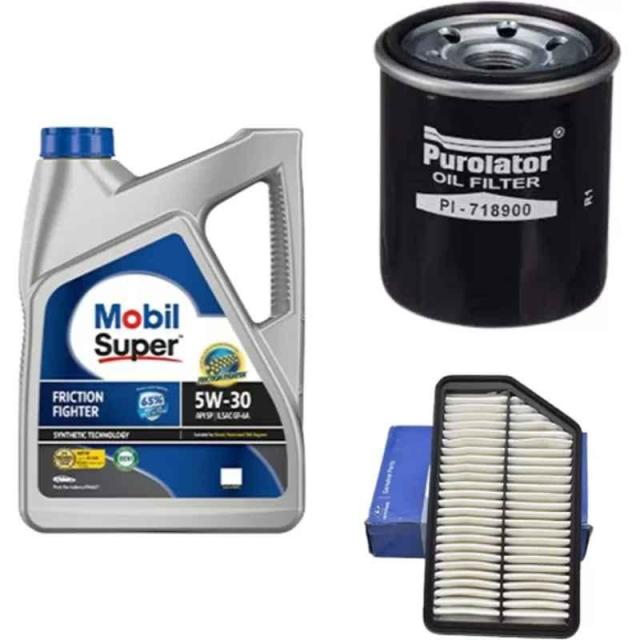air_filter: (421, 370, 599, 640)
motor_oil: (13, 121, 312, 536)
oil_filter: (368, 0, 625, 332)
